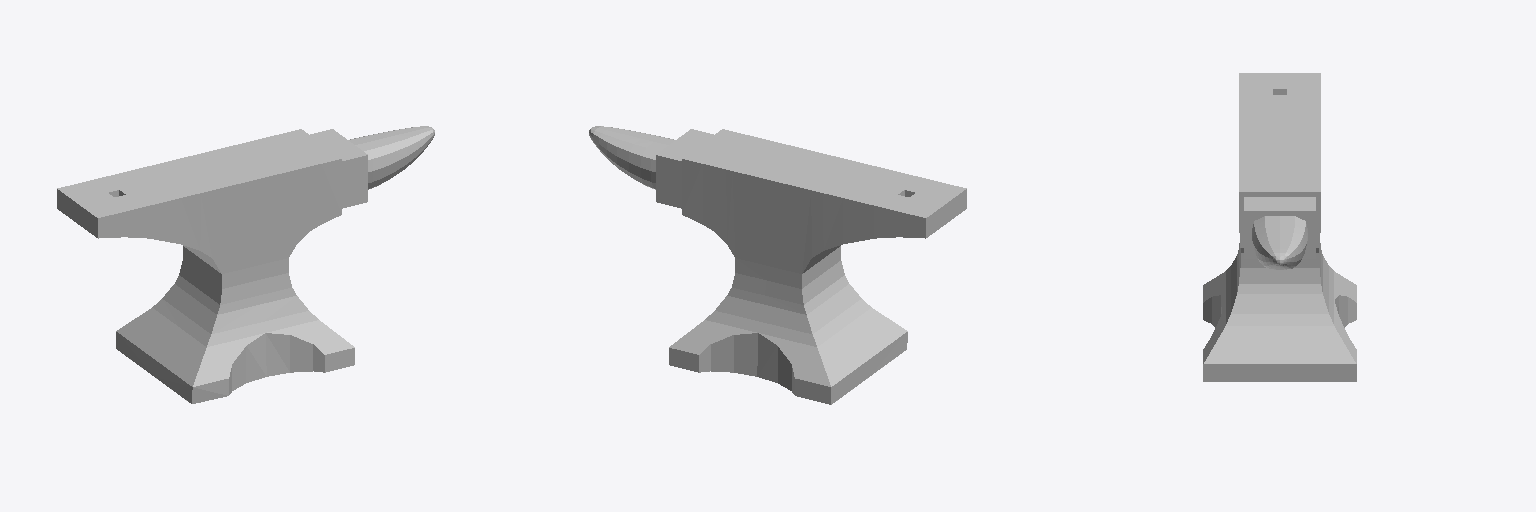
The model's file is Anvil.obj.
3 renders of one model, left to right at view 1: azimuth 30°, elevation 25°; view 2: azimuth 150°, elevation 25°; view 3: azimuth 270°, elevation 25°, orthographic.
Visible parts, largest first — view 1: Anvil_Cube.025; view 2: Anvil_Cube.025; view 3: Anvil_Cube.025.
Boxes of the visible parts, x1=… form: Anvil_Cube.025: x1=57, y1=126, x2=434, y2=403; Anvil_Cube.025: x1=589, y1=126, x2=966, y2=404; Anvil_Cube.025: x1=1203, y1=73, x2=1356, y2=381.
Bounding box in the file's own units: 1.08 × 0.556 × 0.4016.